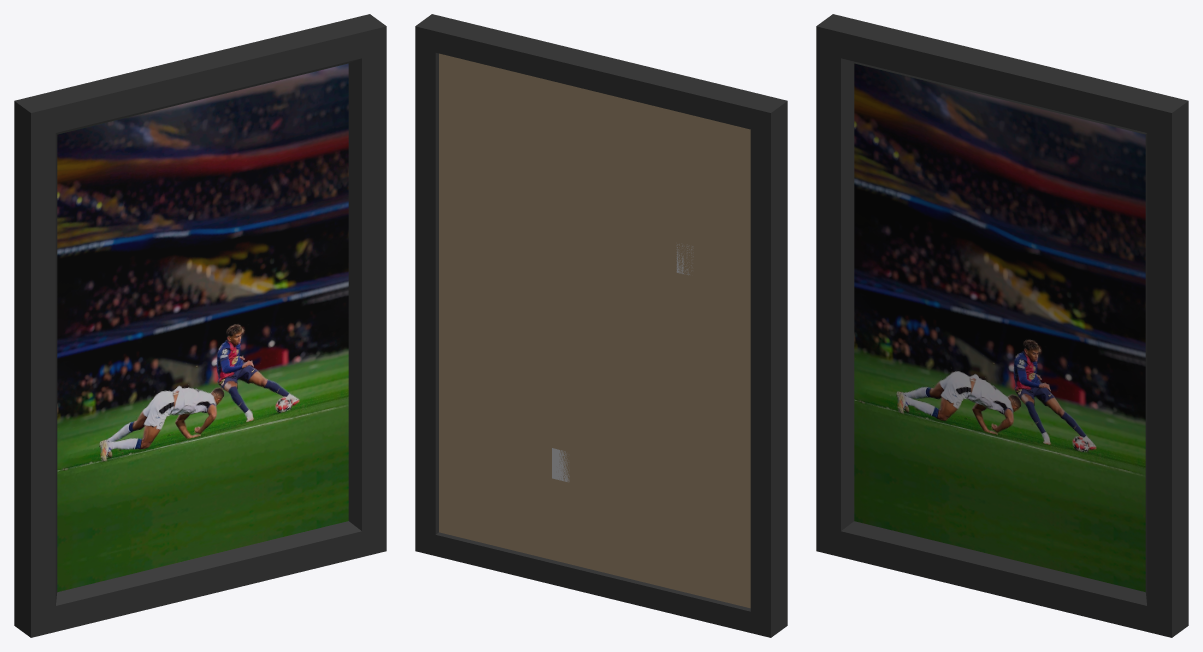
File: yamal-skill-20x30.glb
3 renders of one model, left to right at view 1: azimuth 30°, elevation 25°; view 2: azimuth 150°, elevation 25°; view 3: azimuth 330°, elevation 25°, orthographic.
Parts seen in each view (by area): view 1: LAWHA 20x30; view 2: LAWHA 20x30; view 3: LAWHA 20x30.
Part boxes in pixels (left/top/right/bottom): LAWHA 20x30: left=14, top=14, right=386, bottom=637; LAWHA 20x30: left=415, top=14, right=787, bottom=637; LAWHA 20x30: left=816, top=14, right=1188, bottom=637.
Bounding box in the file's own units: 0.244 × 0.344 × 0.02.
4 materials, 1 textured.
